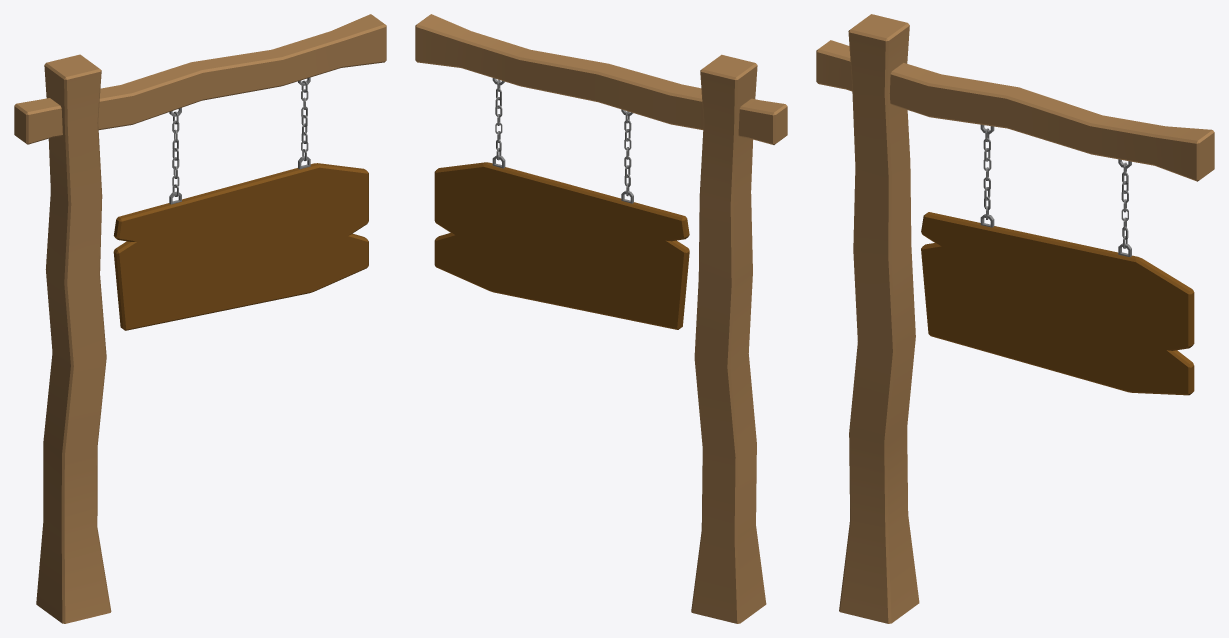
File: Big Sign.fbx
The picture shows the model from 3 angles, left to right: view 1: azimuth 30°, elevation 25°; view 2: azimuth 150°, elevation 25°; view 3: azimuth 330°, elevation 25°; orthographic projection. The views are drawn at different scales.
Parts seen in each view (by area): view 1: Pole, Board, Chain; view 2: Pole, Board, Chain; view 3: Pole, Board, Chain.
Part boxes in pixels (x1,y1,x2,y2): Pole: (14, 14, 386, 623); Board: (113, 163, 368, 330); Chain: (169, 77, 310, 204); Pole: (415, 14, 787, 623); Board: (434, 162, 689, 329); Chain: (492, 78, 633, 203); Pole: (816, 14, 1214, 623); Board: (921, 212, 1194, 395); Chain: (980, 124, 1131, 256).
Size of the model in its own units: 384 by 553 by 52.36.
